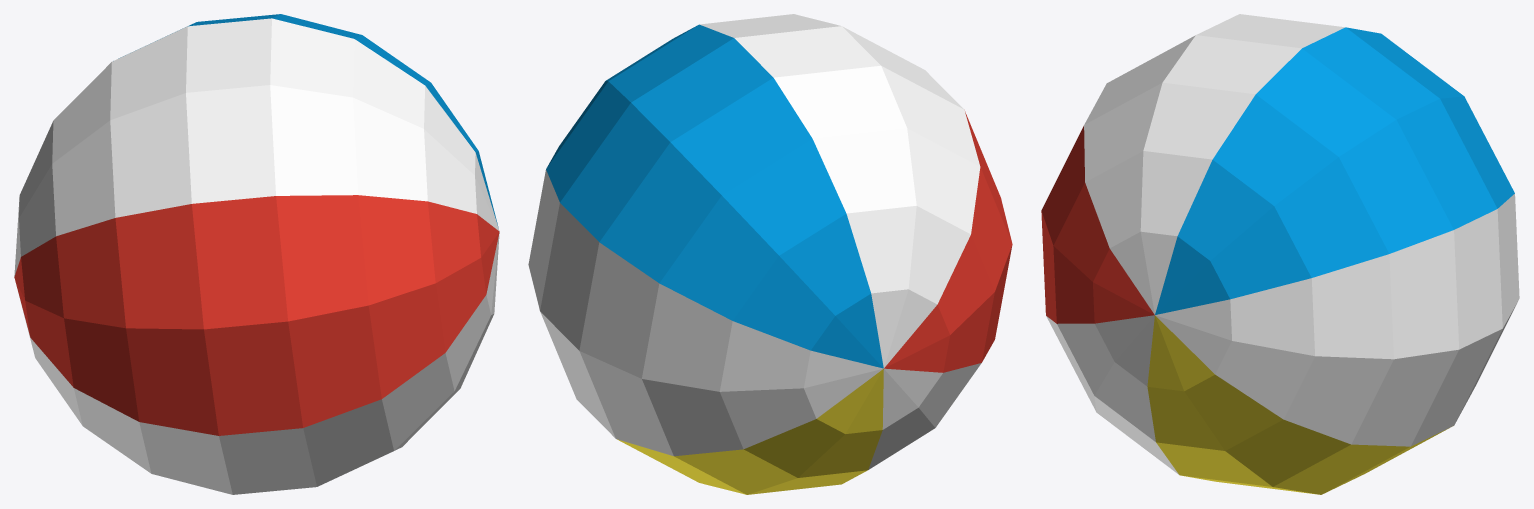
Rendered from beach_ball.glb.
3 renders of one model, left to right at view 1: azimuth 30°, elevation 25°; view 2: azimuth 150°, elevation 25°; view 3: azimuth 270°, elevation 25°, orthographic.
Visible parts, largest first — view 1: group1945116984; view 2: group1945116984; view 3: group1945116984.
Part boxes in pixels (x1,y1,x2,y2): group1945116984: (14,14,499,494); group1945116984: (528,14,1012,494); group1945116984: (1041,14,1519,494).
Bounding box in the file's own units: 0.5016 × 0.5047 × 0.5003.
